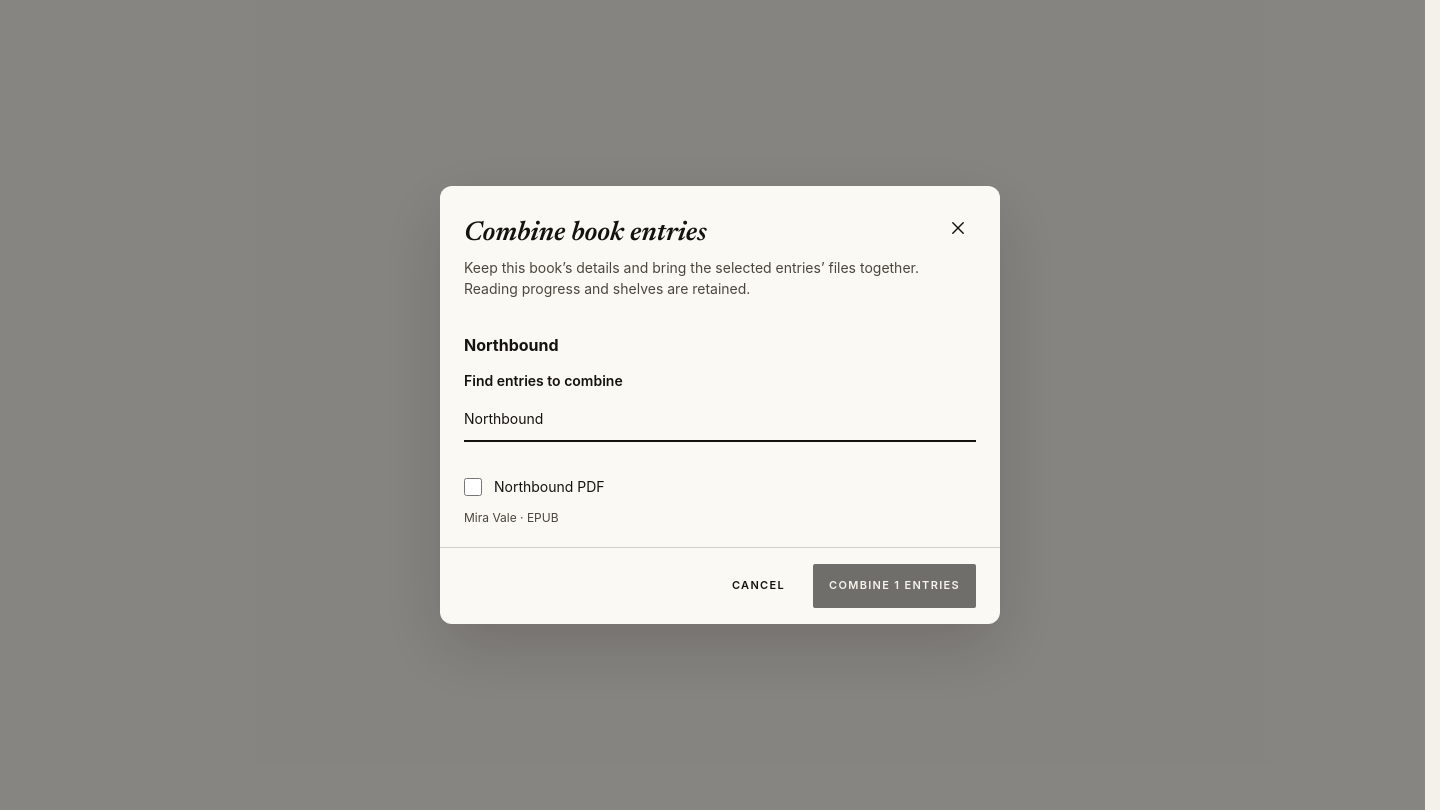
keeps the combine dialog and selected entries when the request fails
Click the checkbox labelled "Northbound PDF": (473, 487) [464, 478, 482, 496]
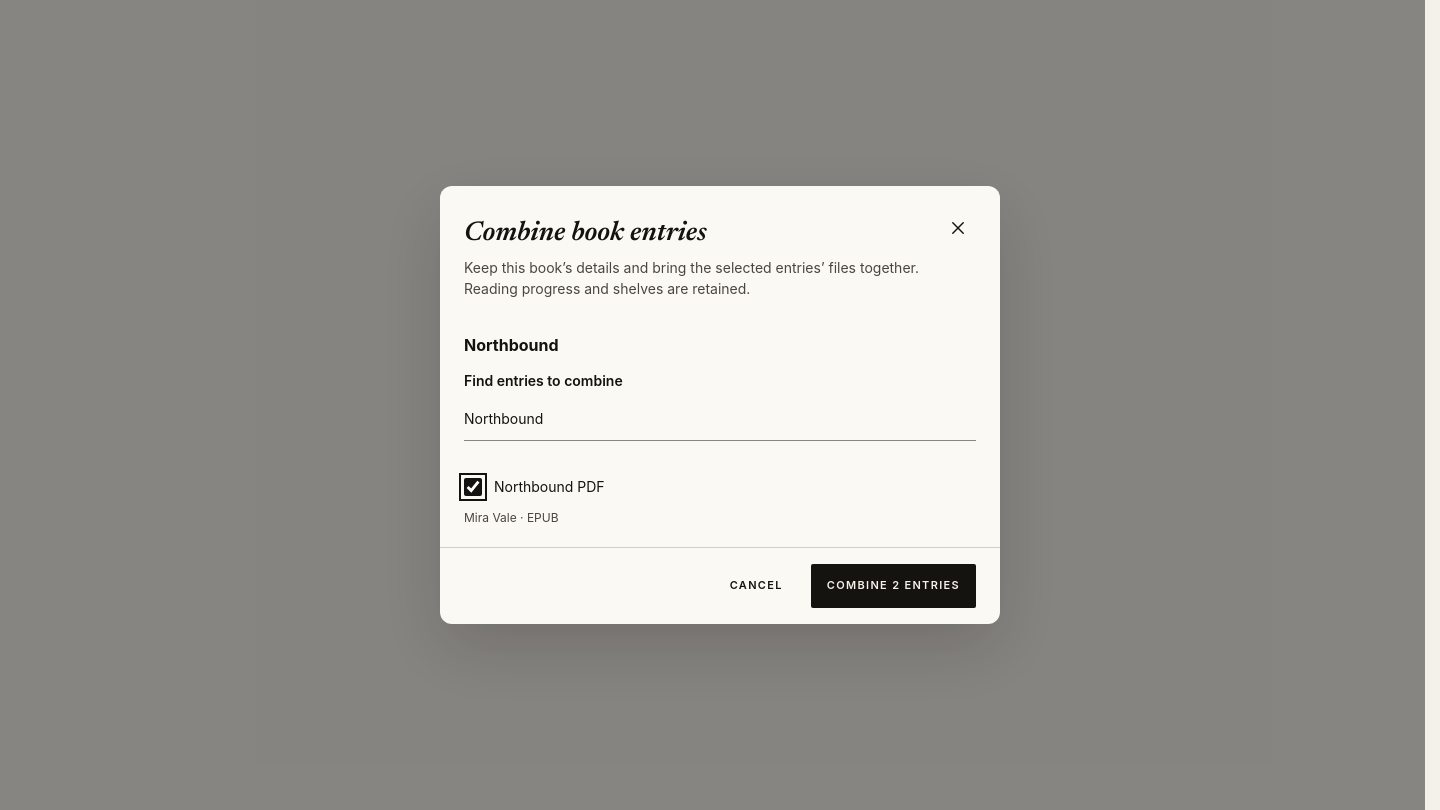
Click the button "Combine 2 entries": (893, 586) [811, 564, 976, 608]
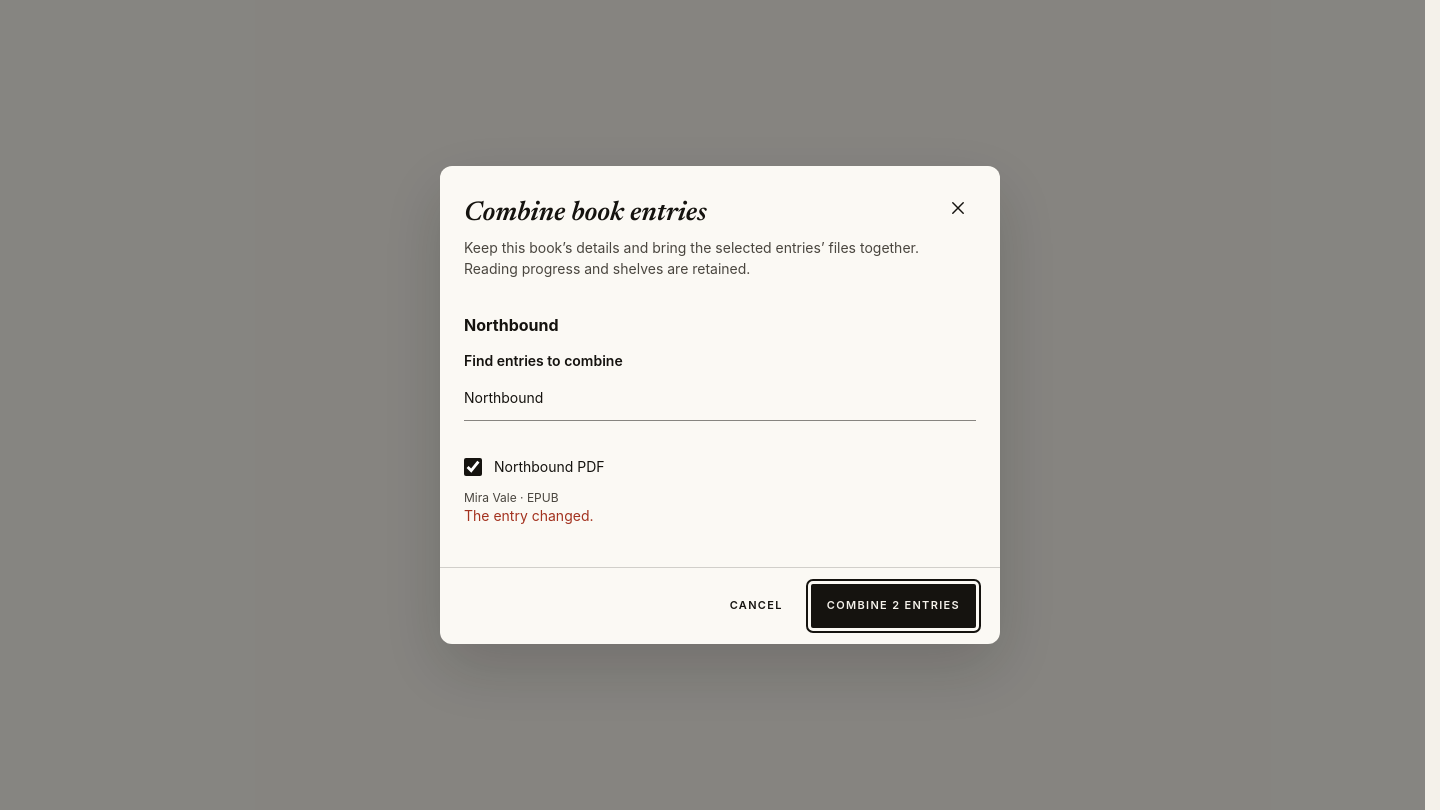
Now the checkbox labelled "Northbound PDF" is checked, box [464, 458, 482, 476]
Now the message reads "The entry changed.", box [464, 508, 594, 524]
